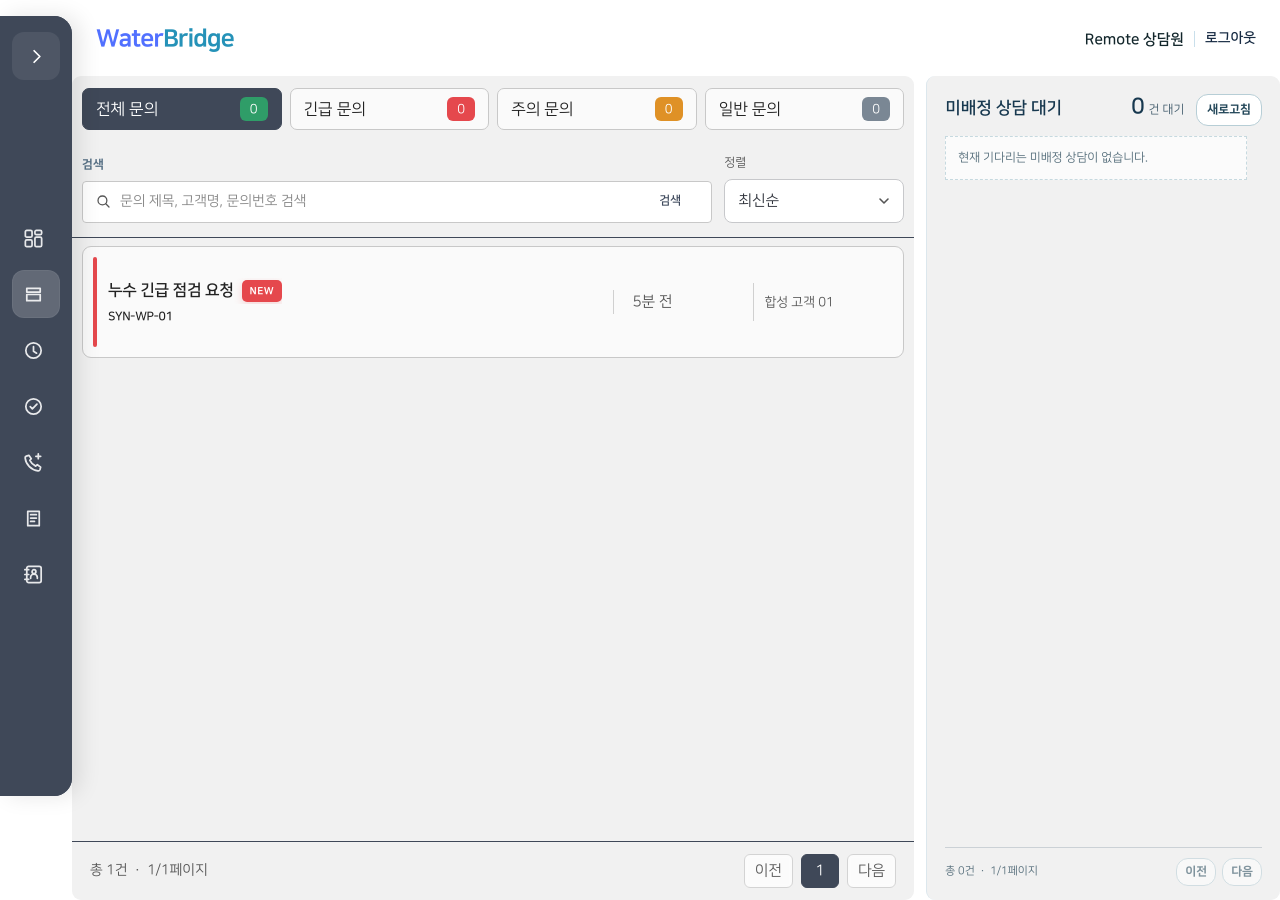
Test: 상담사 Remote 첫 상세 패널 경로 › Remote 첫 패널은 별도 전체 기록 화면으로 이동하지 않고 현재 목록 경로를 유지한다
What coordinates should you click on to do the following:
click the button "누수 긴급 점검 요청 NEW SYN-WP-01 5분 전 합성 고객 01"
I would click on:
 (171, 290)
Its box is top-left (82, 246), bottom-right (904, 358).
(page scrolled)
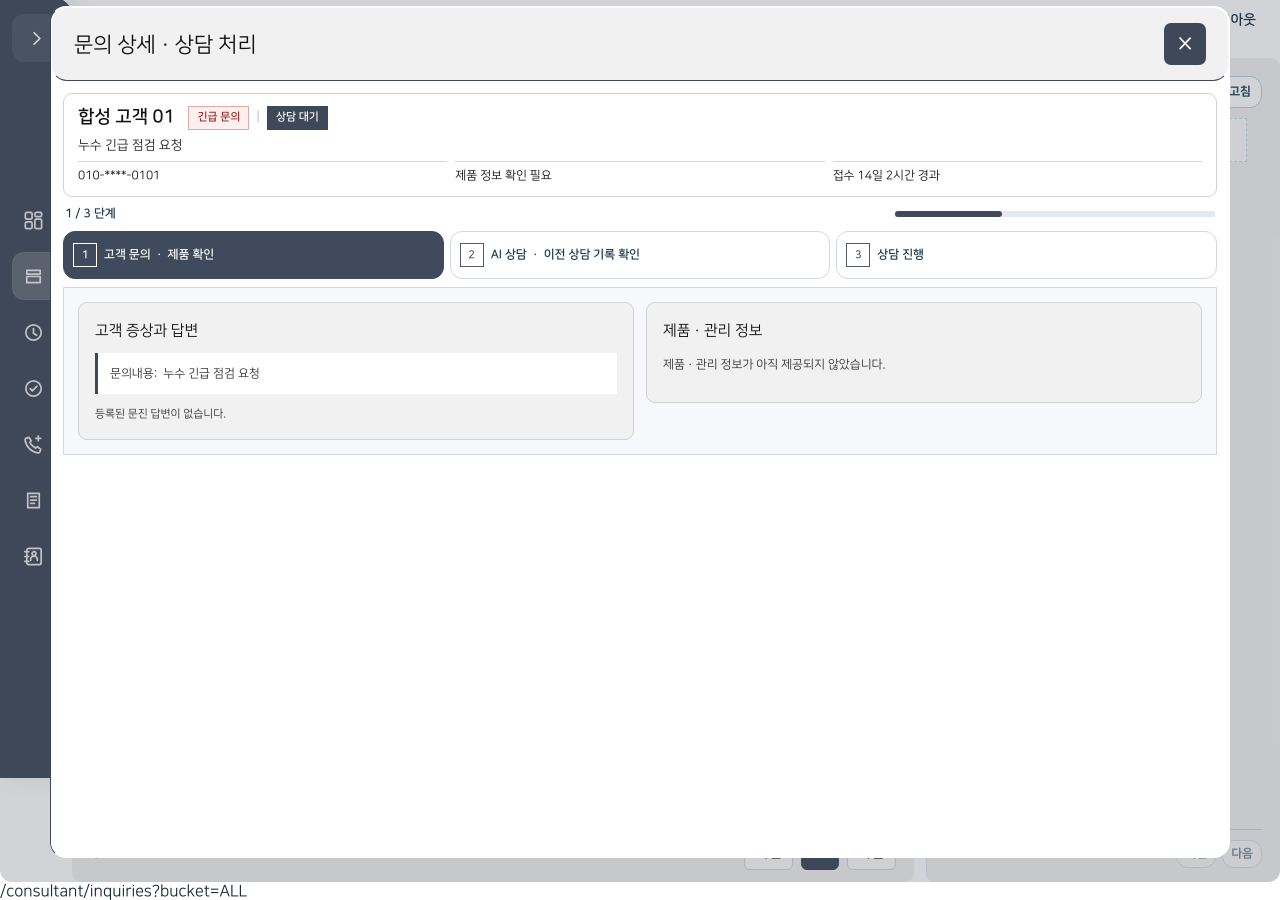
Expected: the text named "현재 경로" reads "/consultant/inquiries?bucket=ALL", top-left (0, 882), bottom-right (247, 899)
Expected: the dialog is shown
